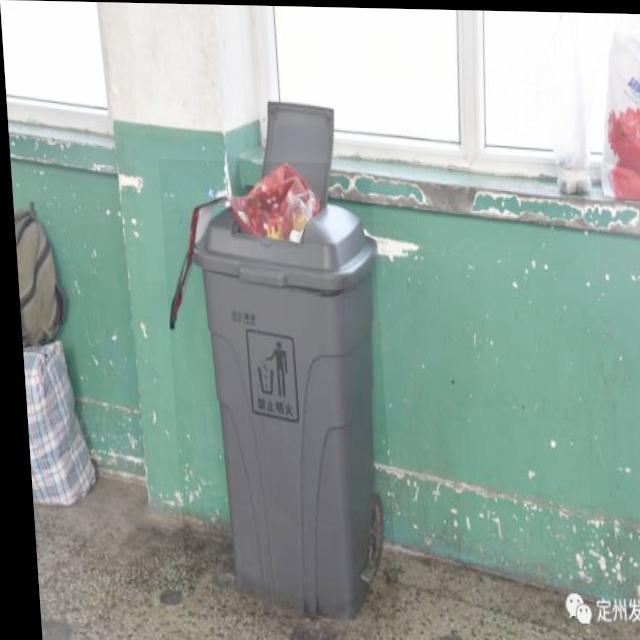overflow: (156, 159, 391, 619)
